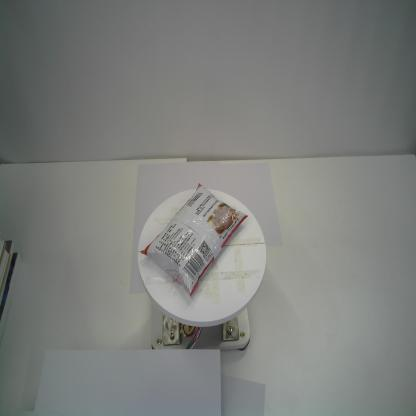Seasoner: (138, 182, 248, 297)
